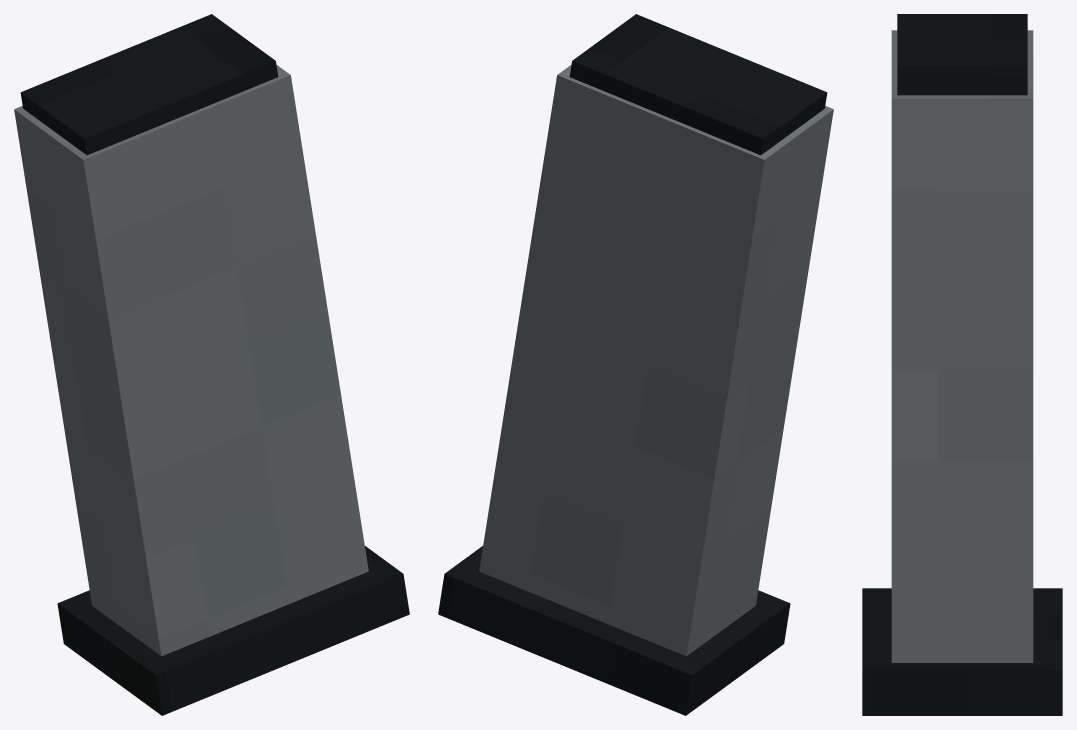
File: USP_Suppressed_Magazine.glb
The picture shows the model from 3 angles, left to right: view 1: azimuth 30°, elevation 25°; view 2: azimuth 150°, elevation 25°; view 3: azimuth 270°, elevation 25°; orthographic projection.
Visible parts, largest first — view 1: Magazine body, Magazine floorplate, Magazine follower; view 2: Magazine body, Magazine floorplate, Magazine follower; view 3: Magazine body, Magazine floorplate, Magazine follower.
Part boxes in pixels (bbox=[...]): Magazine body: bbox=[14, 64, 368, 656]; Magazine floorplate: bbox=[57, 546, 409, 715]; Magazine follower: bbox=[20, 14, 278, 155]; Magazine body: bbox=[479, 64, 833, 656]; Magazine floorplate: bbox=[438, 546, 790, 715]; Magazine follower: bbox=[569, 14, 827, 155]; Magazine body: bbox=[891, 30, 1033, 662]; Magazine floorplate: bbox=[862, 588, 1062, 715]; Magazine follower: bbox=[897, 14, 1027, 95].
Bounding box in the file's own units: 0.0535 × 0.1 × 0.0292.
1 material, 1 textured.
